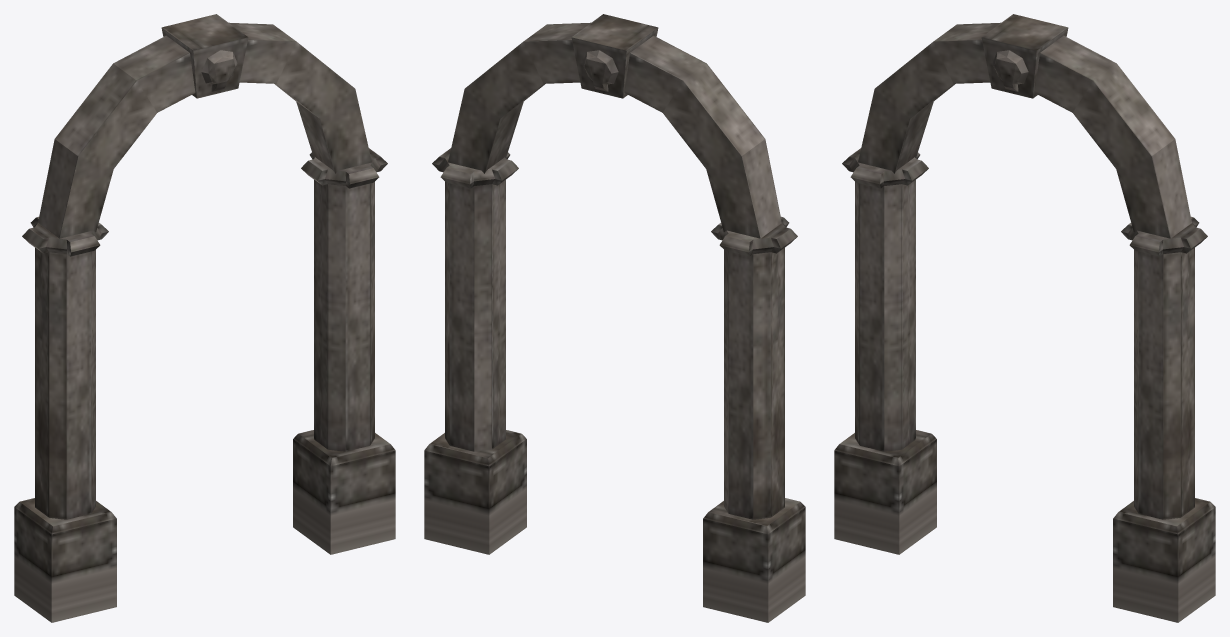
The model's file is ArchSkull01.obj.
The picture shows the model from 3 angles, left to right: view 1: azimuth 30°, elevation 25°; view 2: azimuth 150°, elevation 25°; view 3: azimuth 330°, elevation 25°; orthographic projection.
Visible parts, largest first — view 1: ArchSkull01; view 2: ArchSkull01; view 3: ArchSkull01.
Part boxes in pixels (x1=…): ArchSkull01: x1=14, y1=14, x2=395, y2=622; ArchSkull01: x1=424, y1=14, x2=805, y2=622; ArchSkull01: x1=834, y1=14, x2=1215, y2=622.
Size of the model in its own units: 2.82 by 4.12 by 0.567.
